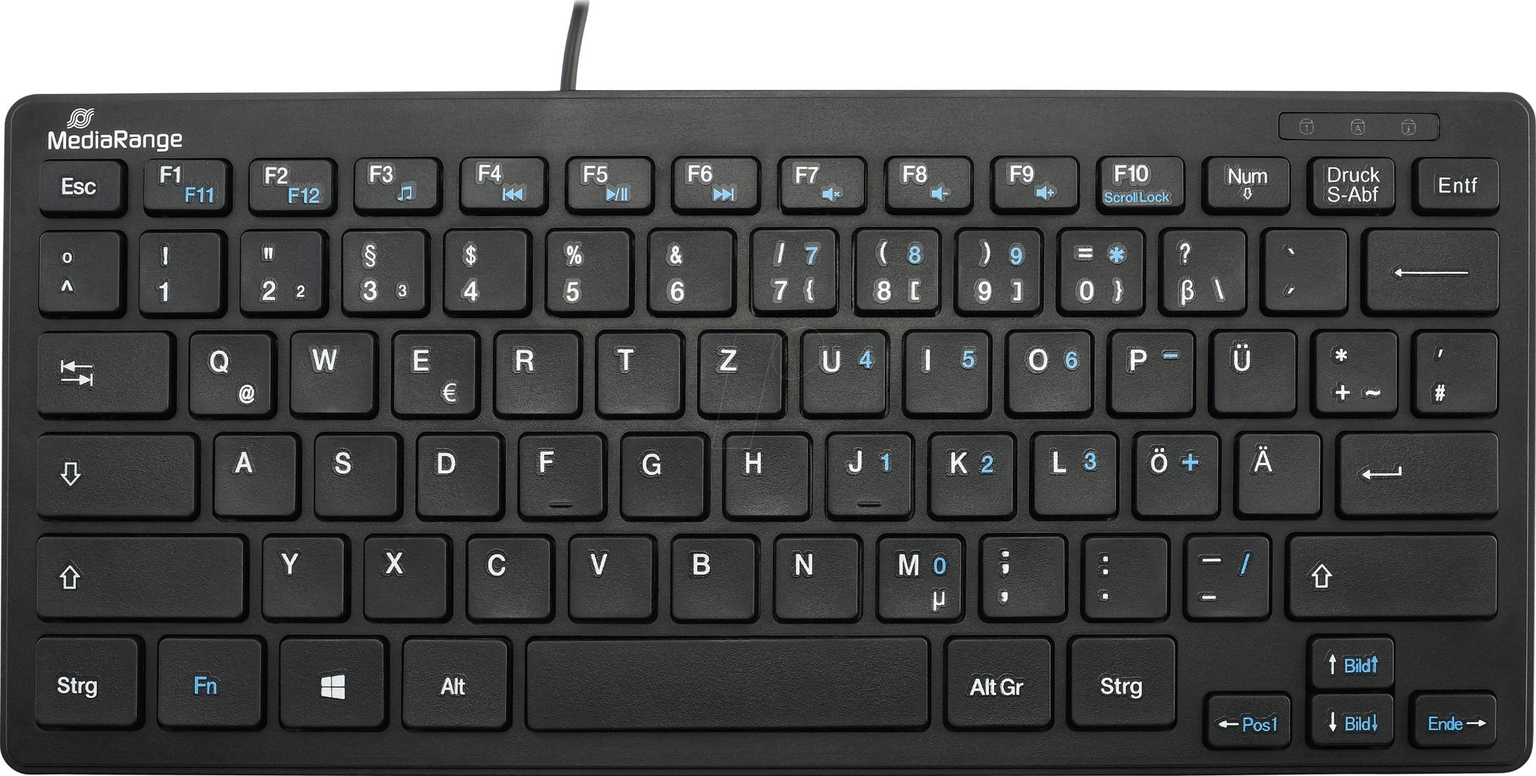0: (1053, 223, 1146, 313)
1: (134, 225, 221, 314)
2: (233, 224, 323, 314)
3: (335, 224, 427, 314)
4: (438, 222, 527, 311)
5: (540, 223, 631, 313)
6: (642, 223, 733, 313)
7: (748, 223, 838, 314)
8: (850, 224, 940, 313)
9: (952, 224, 1045, 314)
a: (207, 427, 297, 517)
accent: (1258, 221, 1348, 311)
ae: (1231, 426, 1322, 516)
alt-left: (396, 632, 513, 732)
altgr-right: (939, 632, 1054, 729)
b: (665, 529, 758, 621)
c: (461, 531, 552, 621)
caret: (32, 224, 119, 313)
comma: (974, 528, 1067, 618)
d: (410, 427, 501, 519)
del: (1360, 221, 1502, 312)
e: (385, 326, 478, 417)
enter: (1333, 426, 1501, 517)
f: (513, 428, 604, 519)
g: (615, 427, 705, 519)
h: (718, 427, 810, 519)
hash: (1411, 324, 1501, 414)
i: (900, 325, 992, 416)
j: (822, 426, 912, 519)
k: (924, 426, 1016, 518)
keyboard: (5, 92, 1529, 770)
l: (1029, 426, 1120, 518)
m: (872, 530, 964, 622)
minus: (1180, 530, 1272, 621)
n: (768, 529, 859, 621)
o: (1002, 323, 1093, 415)
oe: (1132, 431, 1222, 521)
p: (1104, 323, 1196, 415)
plus: (1307, 323, 1397, 414)
point: (1078, 528, 1169, 618)
q: (182, 326, 274, 417)
r: (489, 326, 581, 416)
s: (308, 428, 398, 518)
shift-left: (32, 527, 248, 620)
shift-lock: (31, 427, 197, 518)
shift-right: (1282, 526, 1500, 619)
space: (522, 630, 930, 733)
ss: (1155, 222, 1246, 313)
strg-left: (25, 632, 141, 730)
strg-right: (1063, 632, 1180, 730)
t: (591, 325, 681, 415)
tab: (30, 325, 170, 416)
u: (797, 324, 888, 417)
ue: (1205, 323, 1297, 415)
v: (563, 528, 654, 619)
w: (284, 323, 374, 415)
x: (358, 529, 448, 619)
y: (257, 530, 345, 618)
z: (693, 324, 783, 416)
